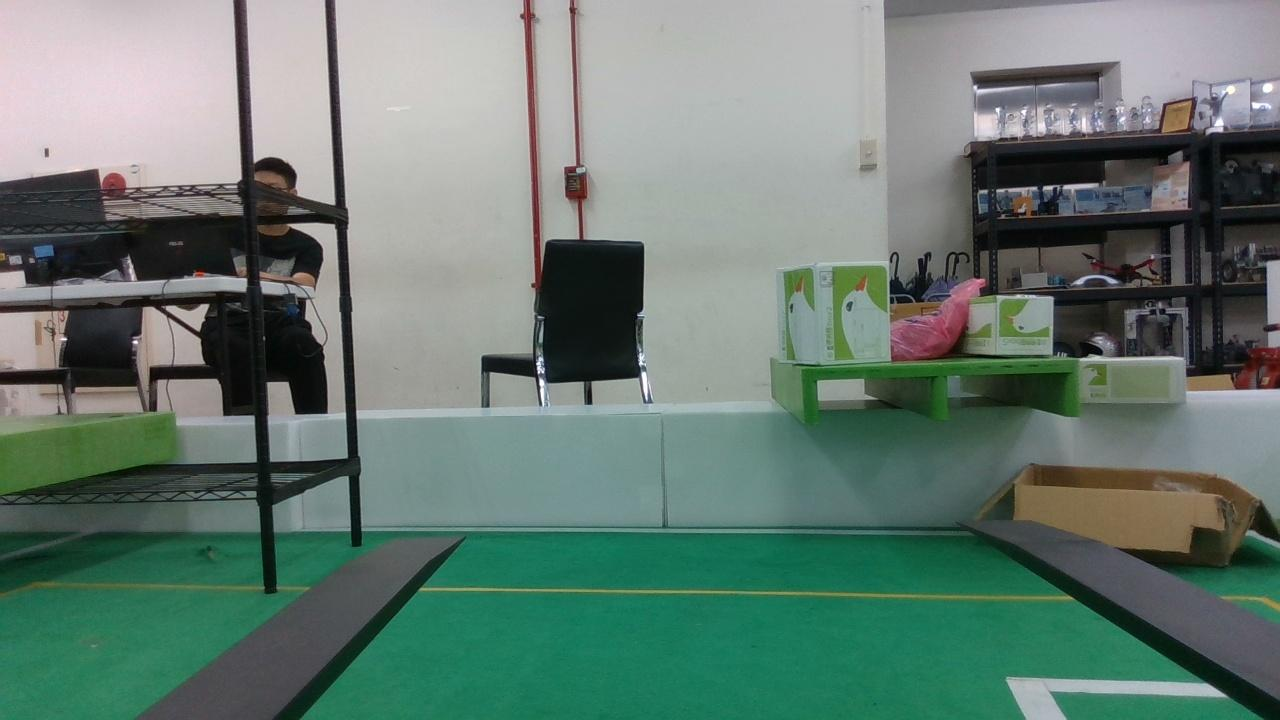Pallet: (803, 359, 1082, 425)
